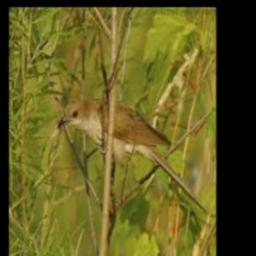Cuckoo: (58, 99, 209, 214)
